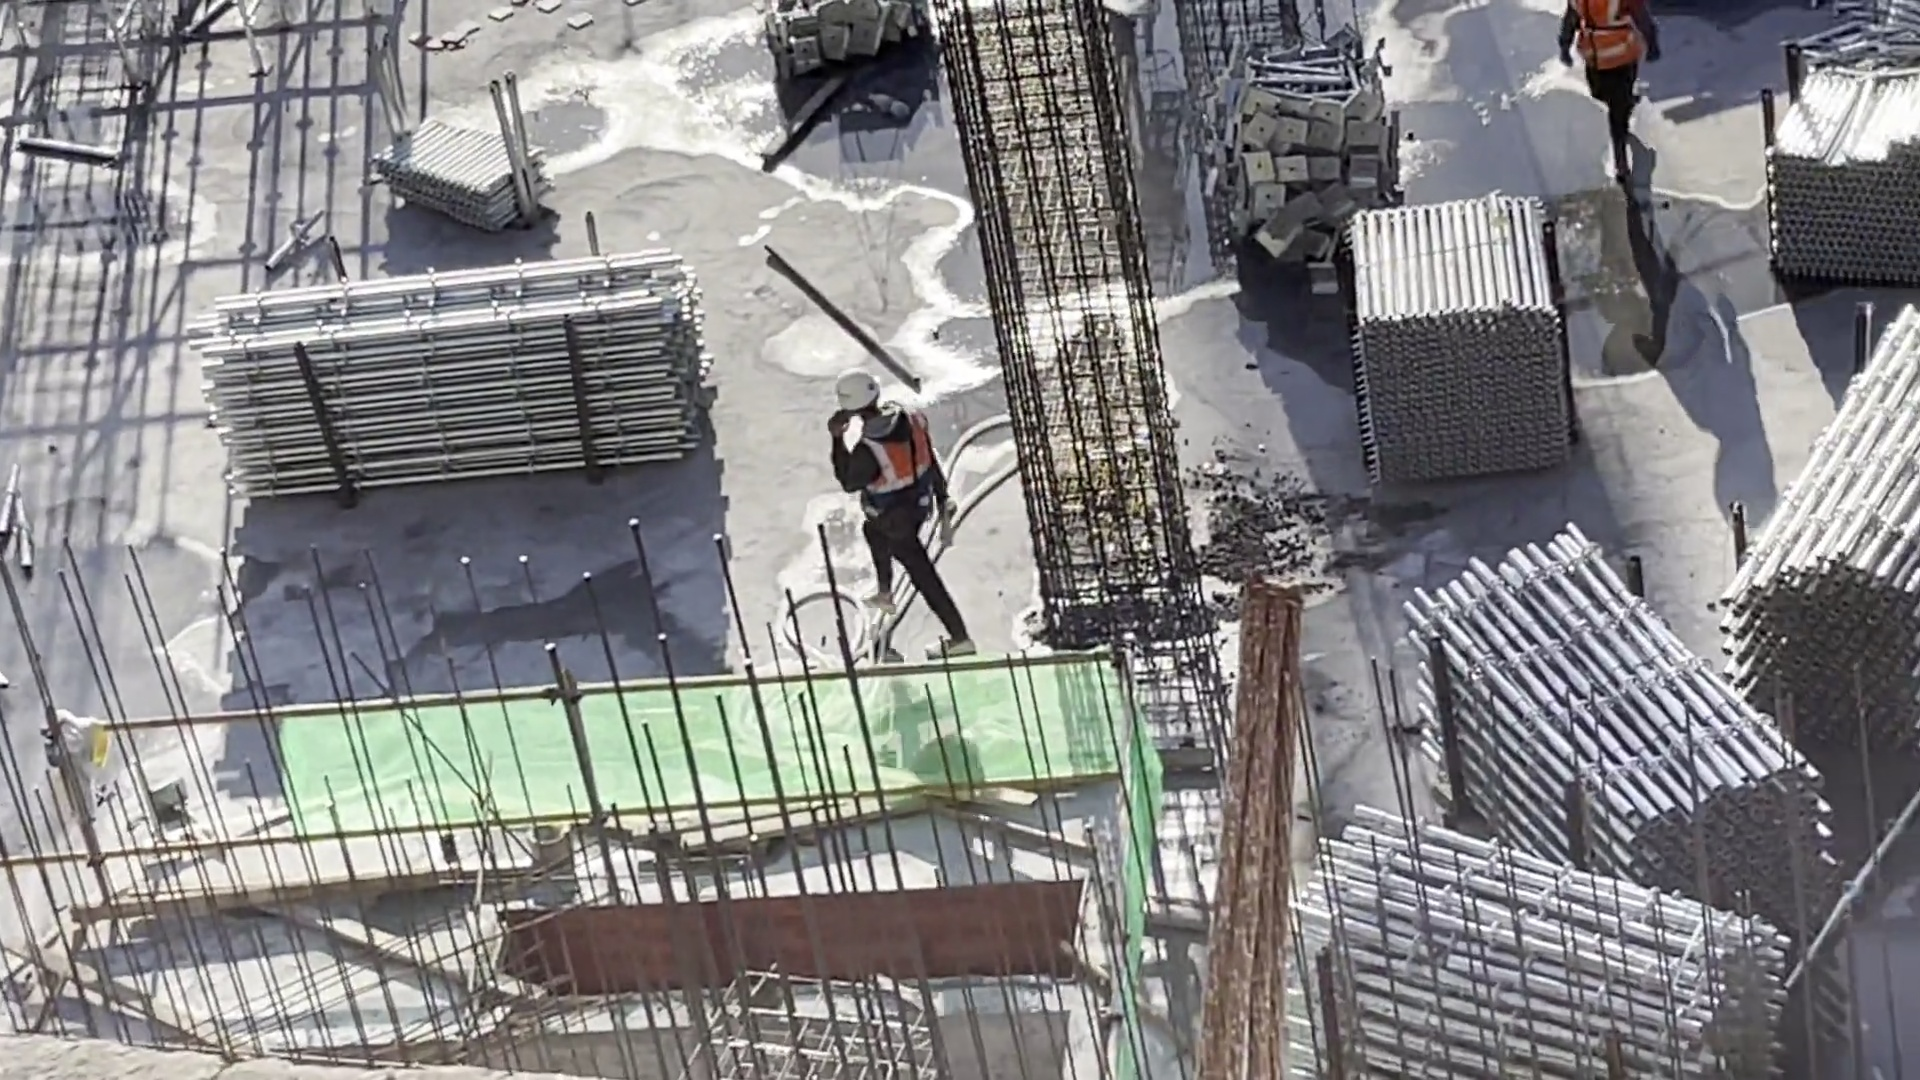helmet: (829, 366, 889, 407)
person: (841, 366, 981, 646), (1565, 1, 1653, 175)
scaffold: (1404, 536, 1814, 929), (1278, 799, 1794, 1069), (221, 299, 704, 472), (1749, 307, 1918, 737), (1341, 204, 1576, 491), (1764, 77, 1920, 294), (378, 86, 563, 242)
vest: (866, 421, 956, 517), (1577, 1, 1649, 71)
